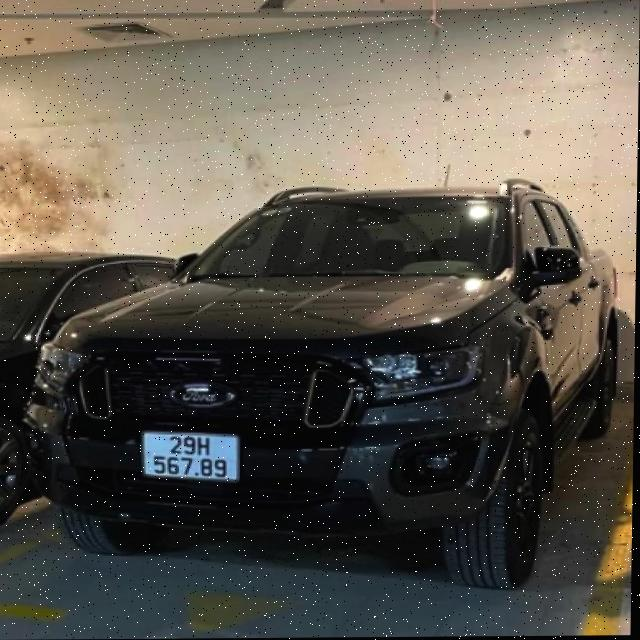car: (12, 164, 637, 582)
plate: (135, 426, 247, 487)
